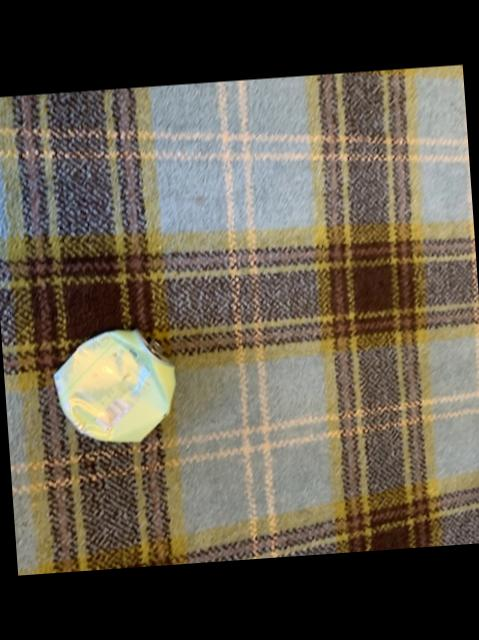metal: (52, 331, 172, 443)
